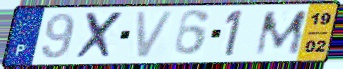1: (222, 9, 243, 59)
6: (172, 7, 212, 61)
9: (39, 12, 76, 61)
M: (252, 8, 310, 58)
V: (133, 9, 178, 61)
X: (73, 10, 127, 61)
